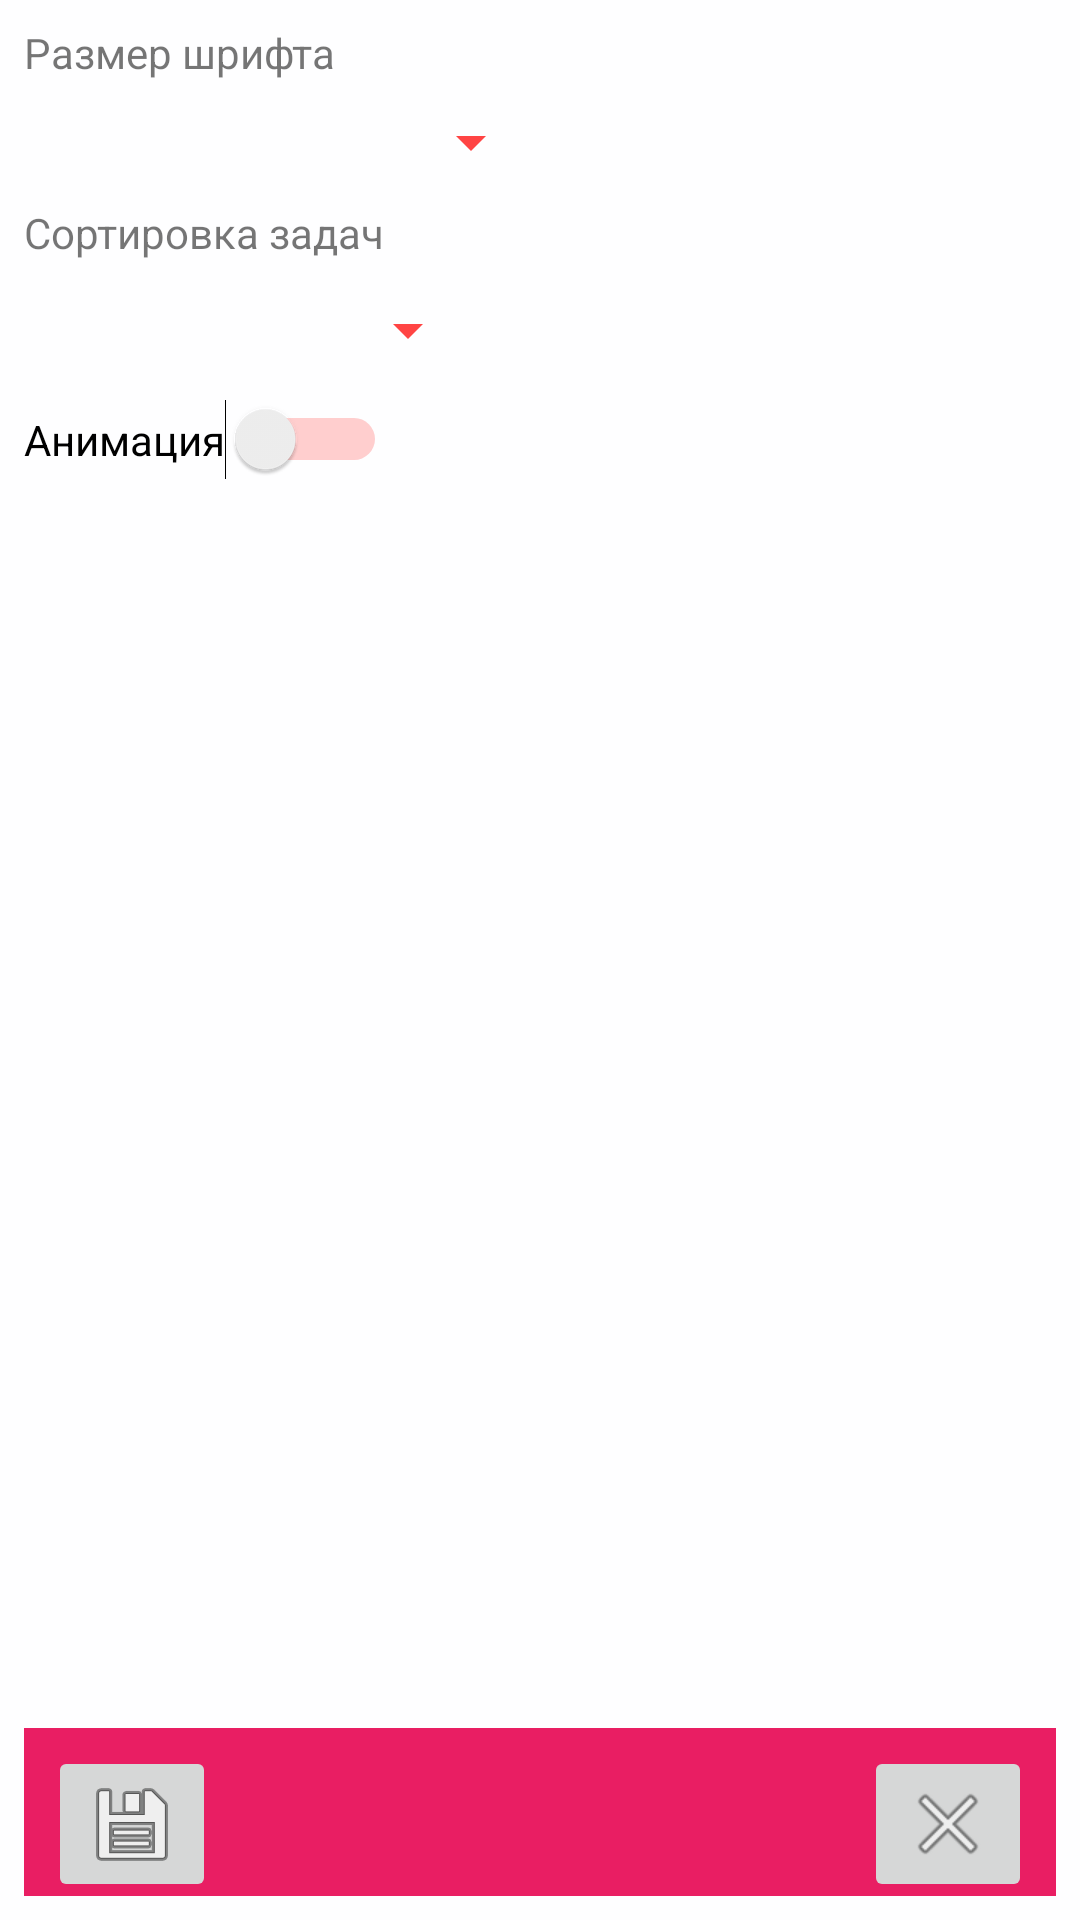

Icon click points for this 1080 × 1920 phone screenshot, format (x=x, y=y):
close clear cancel: (x=948, y=1824)
save: (x=132, y=1824)
